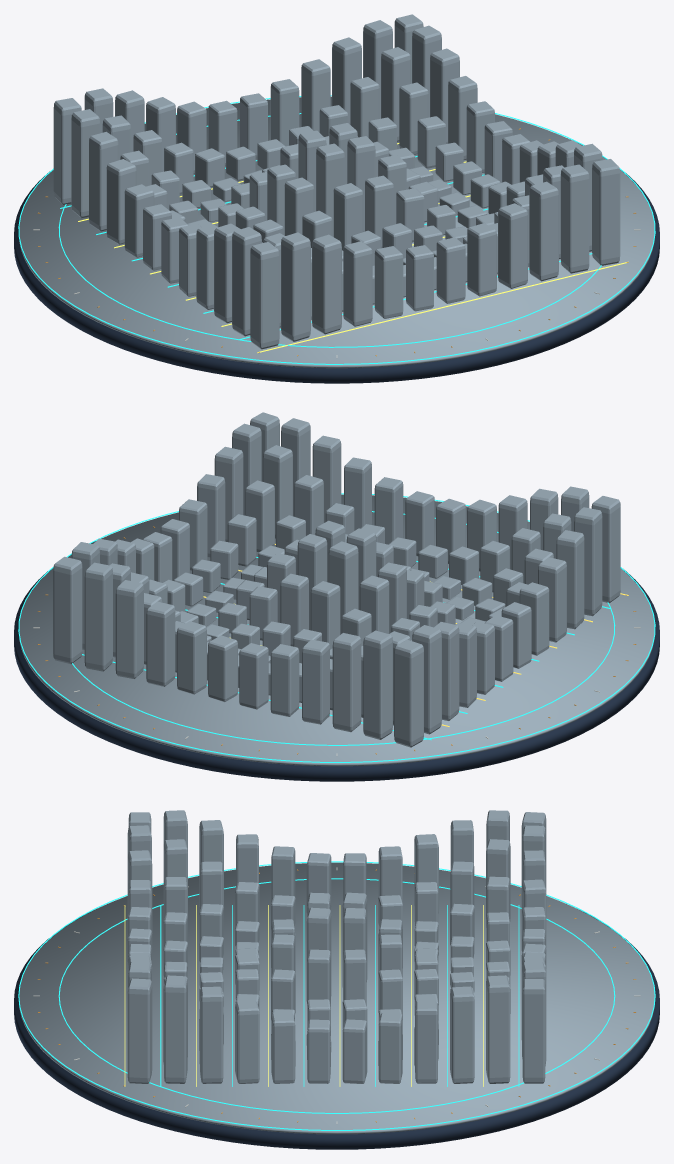
The picture shows the model from 3 angles, top to bottom: view 1: azimuth 30°, elevation 25°; view 2: azimuth 150°, elevation 25°; view 3: azimuth 270°, elevation 25°; orthographic projection.
Parts seen in each view (by area): view 1: Floating plinth / crown, Floating plinth / lower, Shared module 001, Shared module 010, Shared module 000, Shared module 011, Shared module 002, Shared module 009, Shared module 008, Shared module 003, Shared module 012, Shared module 120 (+68 smaller); view 2: Floating plinth / crown, Floating plinth / lower, Shared module 133, Shared module 132, Shared module 143, Shared module 142, Shared module 134, Shared module 141, Shared module 140, Shared module 135, Shared module 012, Shared module 000 (+68 smaller); view 3: Floating plinth / crown, Floating plinth / lower, Shared module 011, Shared module 131, Shared module 023, Shared module 143, Shared module 119, Shared module 035, Shared module 047, Concentric wayfinding, Shared module 107, Shared module 095 (+56 smaller).
Boxes of the visible parts, left/top/right/bottom form: Floating plinth / crown: left=19, top=96, right=654, bottom=368; Floating plinth / lower: left=14, top=138, right=659, bottom=383; Shared module 001: left=281, top=232, right=310, bottom=341; Shared module 010: left=560, top=164, right=589, bottom=273; Shared module 000: left=250, top=242, right=279, bottom=349; Shared module 011: left=592, top=159, right=620, bottom=265; Shared module 002: left=312, top=234, right=341, bottom=334; Shared module 009: left=529, top=181, right=558, bottom=281; Shared module 008: left=498, top=203, right=527, bottom=288; Shared module 003: left=343, top=241, right=372, bottom=326; Shared module 012: left=232, top=227, right=261, bottom=336; Shared module 120: left=71, top=109, right=99, bottom=218; Floating plinth / crown: left=19, top=494, right=654, bottom=766; Floating plinth / lower: left=14, top=541, right=659, bottom=781; Shared module 133: left=363, top=630, right=392, bottom=739; Shared module 132: left=394, top=639, right=423, bottom=747; Shared module 143: left=53, top=556, right=82, bottom=663; Shared module 142: left=84, top=562, right=112, bottom=671; Shared module 134: left=332, top=633, right=361, bottom=732; Shared module 141: left=115, top=580, right=143, bottom=678; Shared module 140: left=146, top=601, right=175, bottom=686; Shared module 135: left=302, top=639, right=329, bottom=724; Shared module 012: left=574, top=507, right=602, bottom=616; Shared module 000: left=591, top=496, right=620, bottom=603; Floating plinth / crown: left=19, top=862, right=654, bottom=1134; Floating plinth / lower: left=14, top=910, right=659, bottom=1149; Shared module 011: left=127, top=978, right=152, bottom=1083; Shared module 131: left=486, top=976, right=510, bottom=1083; Shared module 023: left=164, top=977, right=187, bottom=1083; Shared module 143: left=522, top=979, right=545, bottom=1083; Shared module 119: left=450, top=986, right=474, bottom=1083; Shared module 035: left=200, top=986, right=223, bottom=1083; Shared module 047: left=235, top=1000, right=259, bottom=1083; Concentric wayfinding: left=18, top=861, right=655, bottom=1130; Shared module 107: left=415, top=1001, right=437, bottom=1083; Shared module 095: left=378, top=1013, right=402, bottom=1083.
Size of the model in its own units: 22 by 4.34 by 22.
